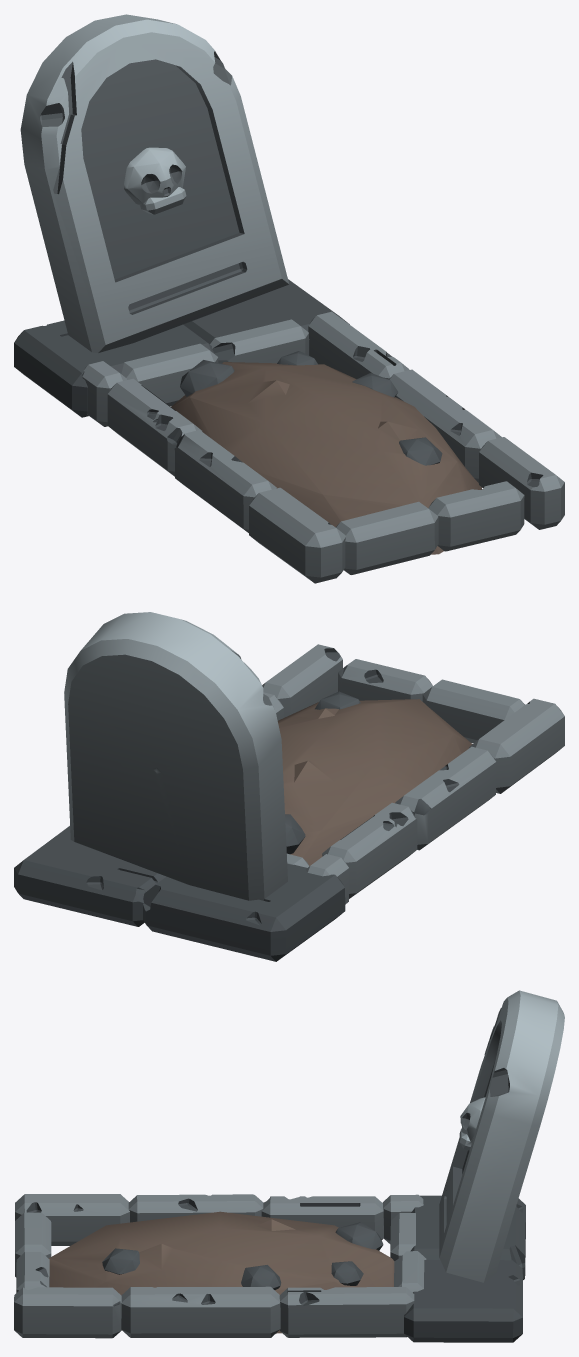
The model's file is grave_leaning.glb.
3 views of the same model, one above another, from view 1: azimuth 30°, elevation 25°; view 2: azimuth 150°, elevation 25°; view 3: azimuth 270°, elevation 25° (orthographic). The views are drawn at different scales.
Parts seen in each view (by area): view 1: grave_leaning; view 2: grave_leaning; view 3: grave_leaning.
Boxes of the visible parts, x1,y1,x2,y2 form: grave_leaning: (14, 14, 564, 583); grave_leaning: (14, 612, 564, 961); grave_leaning: (14, 990, 564, 1342).
Bounding box in the file's own units: 1.4 × 1.57 × 2.81.
Materials: 1 (1 with a texture image).
